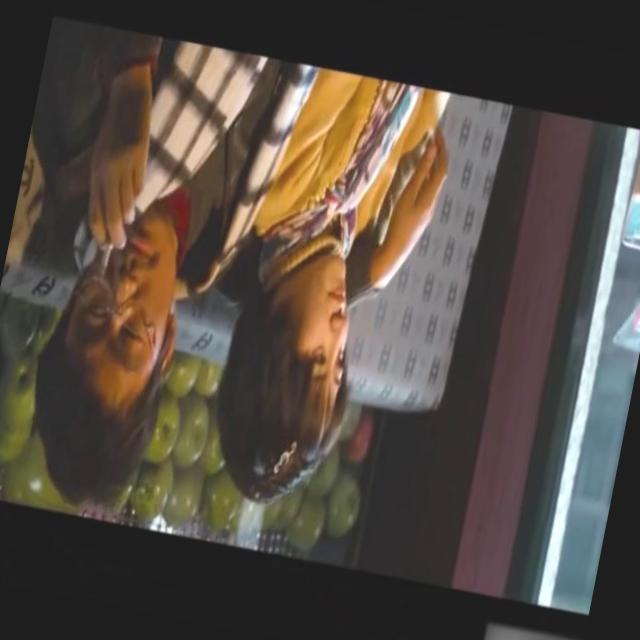cigarette: (97, 233, 120, 276)
